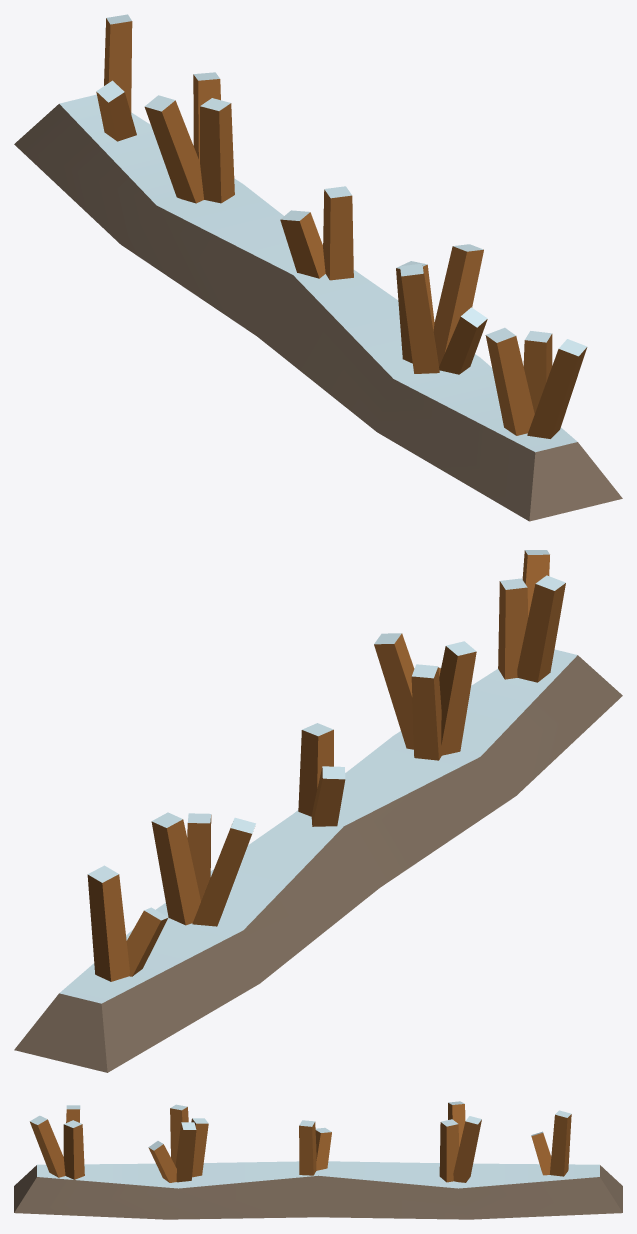
File: SM_Env_Samurai_Crops_01_Snow.fbx
3 renders of one model, top to bottom at view 1: azimuth 30°, elevation 25°; view 2: azimuth 150°, elevation 25°; view 3: azimuth 270°, elevation 25°, orthographic. The views are drawn at different scales.
Parts seen in each view (by area): view 1: SM_Env_Samurai_Crops_01_Snow; view 2: SM_Env_Samurai_Crops_01_Snow; view 3: SM_Env_Samurai_Crops_01_Snow.
Boxes of the visible parts, x1,y1,x2,y2 form: SM_Env_Samurai_Crops_01_Snow: (14, 14, 622, 521); SM_Env_Samurai_Crops_01_Snow: (14, 550, 622, 1072); SM_Env_Samurai_Crops_01_Snow: (14, 1101, 622, 1219).
Bounding box in the file's own units: 15.25 × 15.77 × 97.82.
Materials: 1 (1 with a texture image).
